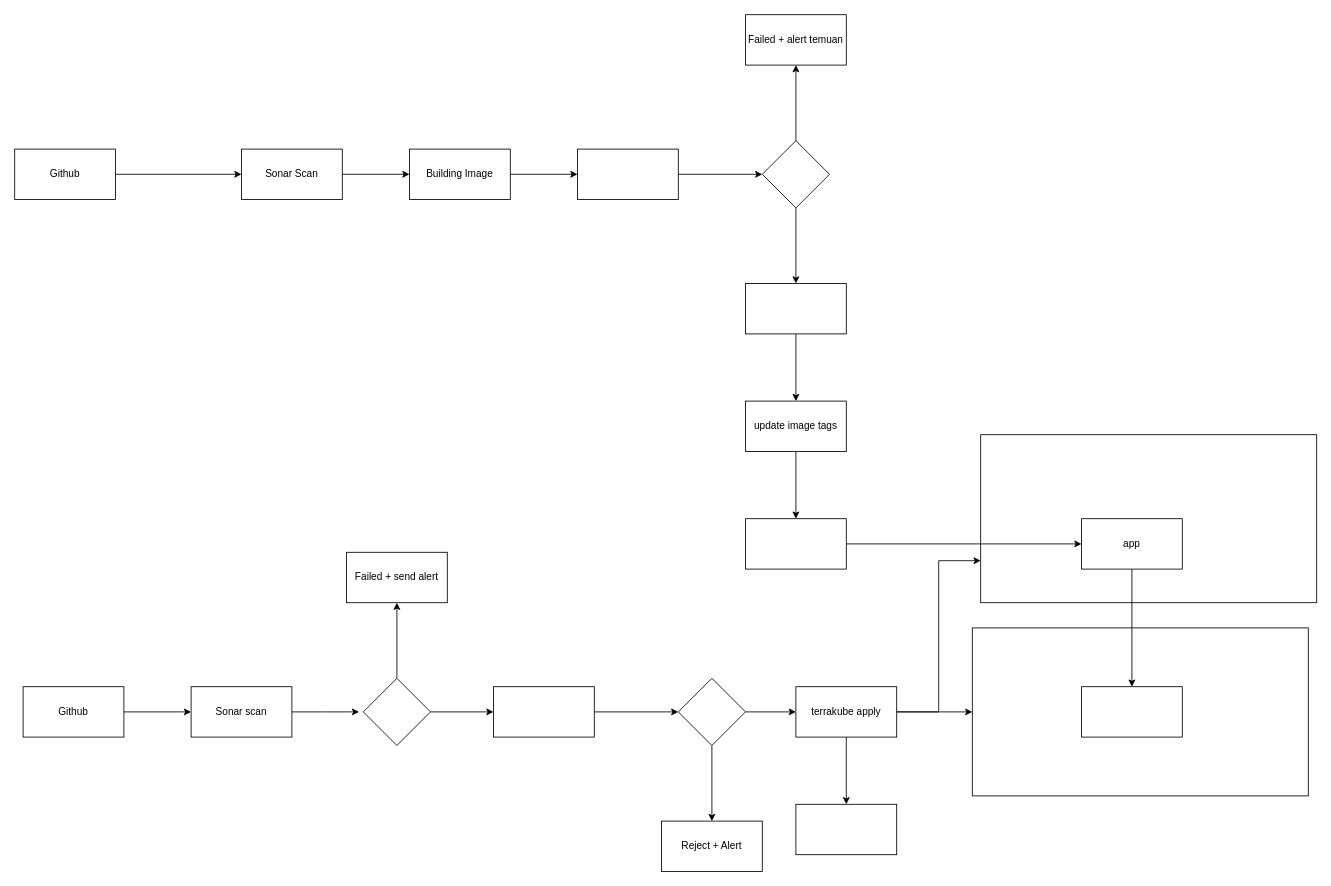
This 1331x886 diagram has some shape labels left out. Each missing label, with the box of its shape:
ansible run also: (795, 803, 897, 855)
Database: (1081, 686, 1182, 737)
do helmfile apply: (745, 518, 846, 569)
push images: (745, 283, 846, 334)
terrakube plan: (493, 686, 594, 737)
Trivy Scan: (577, 148, 678, 200)
